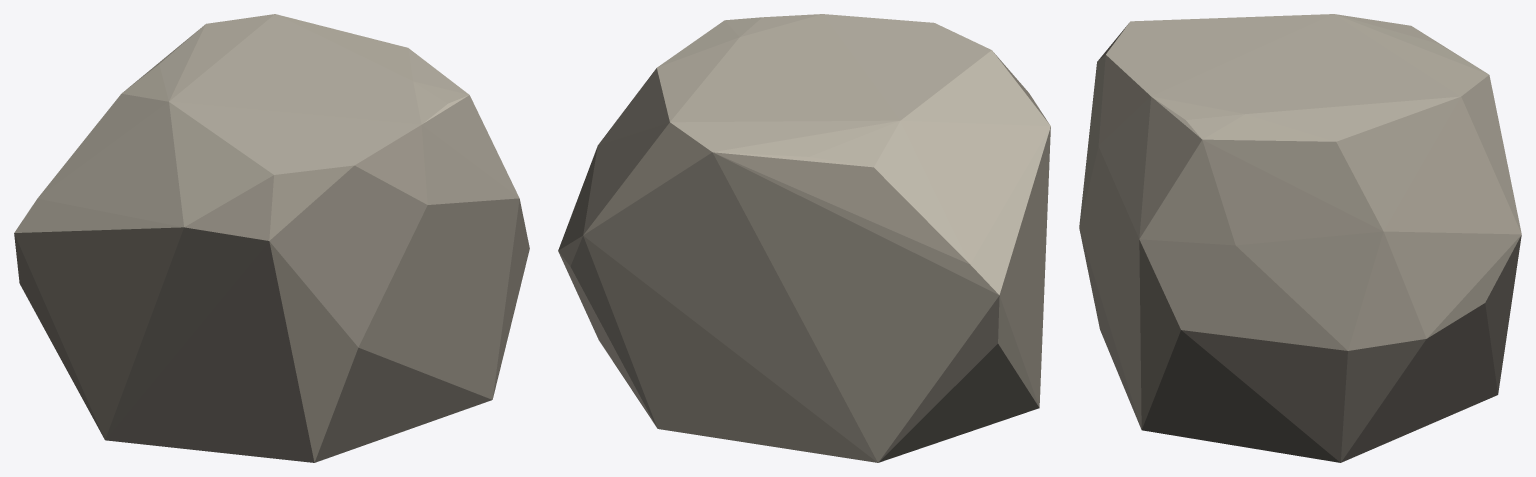
The model's file is rock_boulder.glb.
The picture shows the model from 3 angles, left to right: view 1: azimuth 30°, elevation 25°; view 2: azimuth 150°, elevation 25°; view 3: azimuth 270°, elevation 25°; orthographic projection. The views are drawn at different scales.
Visible parts, largest first — view 1: LOD0; view 2: LOD0; view 3: LOD0.
Boxes of the visible parts, x1,y1,x2,y2 form: LOD0: [14, 14, 529, 462]; LOD0: [558, 14, 1050, 462]; LOD0: [1079, 14, 1521, 462].
Size of the model in its own units: 2.15 by 1.41 by 1.8.
1 material, 1 textured.
